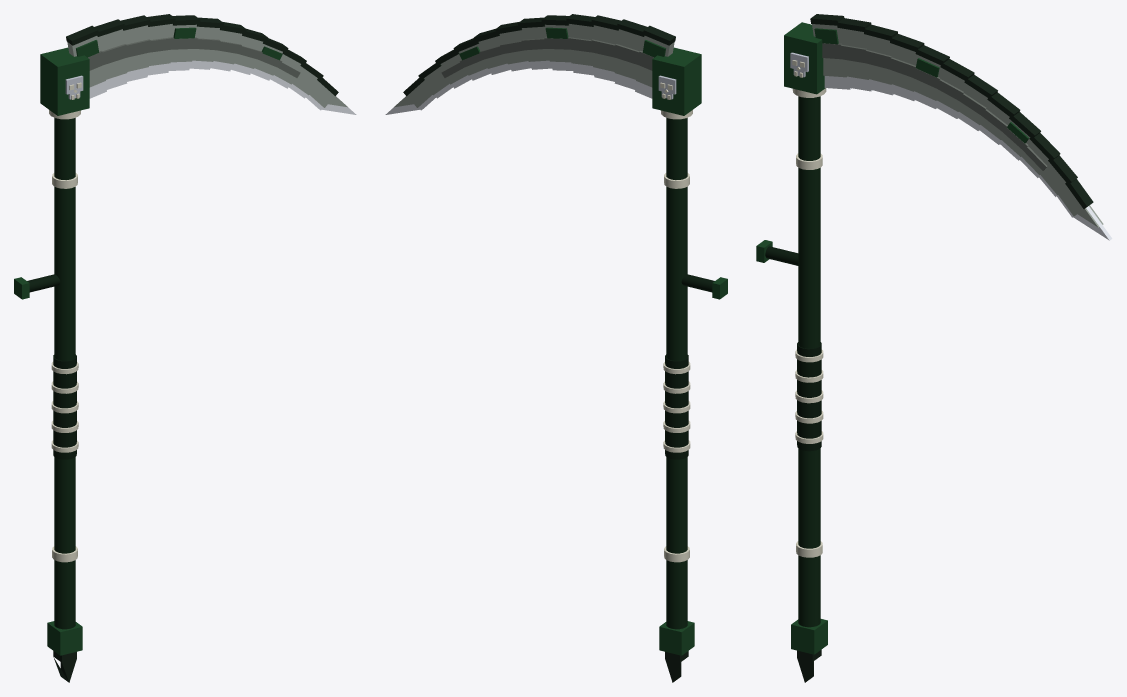
3 views of the same model, side by side, from view 1: azimuth 30°, elevation 25°; view 2: azimuth 150°, elevation 25°; view 3: azimuth 330°, elevation 25° (orthographic). The views are drawn at different scales.
Parts seen in each view (by area): view 1: grave-scythe; view 2: grave-scythe; view 3: grave-scythe.
Part boxes in pixels (x1=…): grave-scythe: x1=14, y1=14, x2=356, y2=682; grave-scythe: x1=385, y1=14, x2=727, y2=682; grave-scythe: x1=756, y1=14, x2=1112, y2=682.
Size of the model in its own units: 0.785 by 1.43 by 0.0874.
